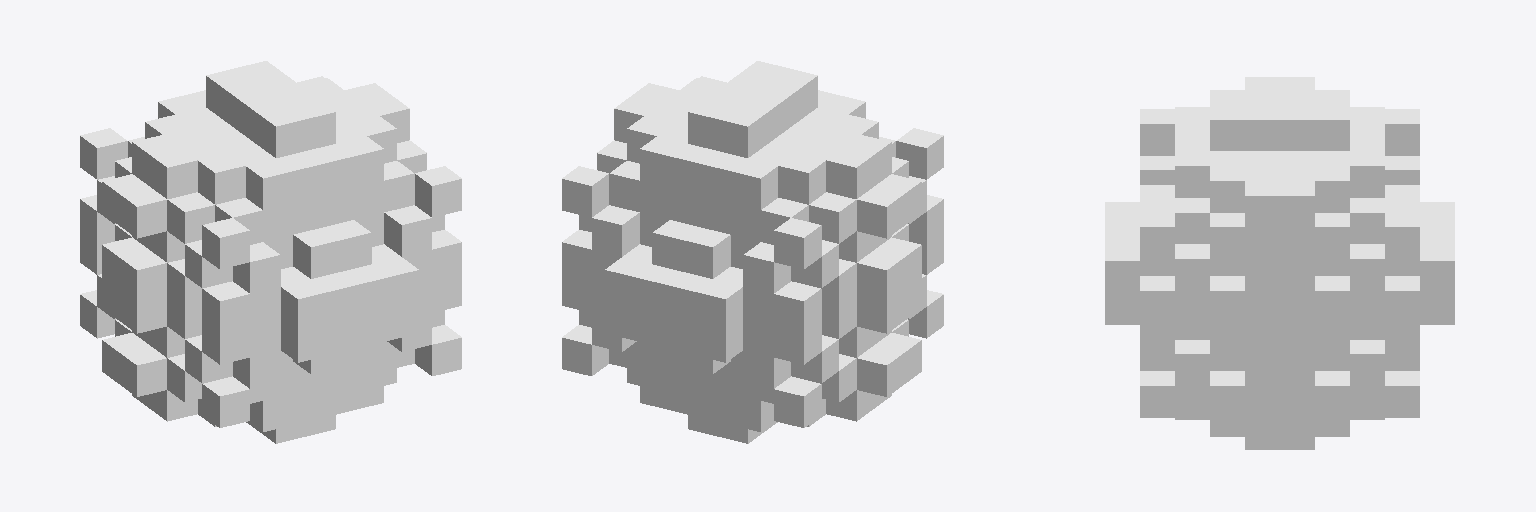
The model's file is AsteroidSmall.obj.
3 renders of one model, left to right at view 1: azimuth 30°, elevation 25°; view 2: azimuth 150°, elevation 25°; view 3: azimuth 270°, elevation 25°, orthographic.
Visible parts, largest first — view 1: object 1; view 2: object 1; view 3: object 1.
Boxes of the visible parts, x1=… form: object 1: x1=80, y1=61, x2=461, y2=443; object 1: x1=562, y1=61, x2=943, y2=443; object 1: x1=1105, y1=77, x2=1454, y2=449.
Size of the model in its own units: 0.9 by 1 by 1.